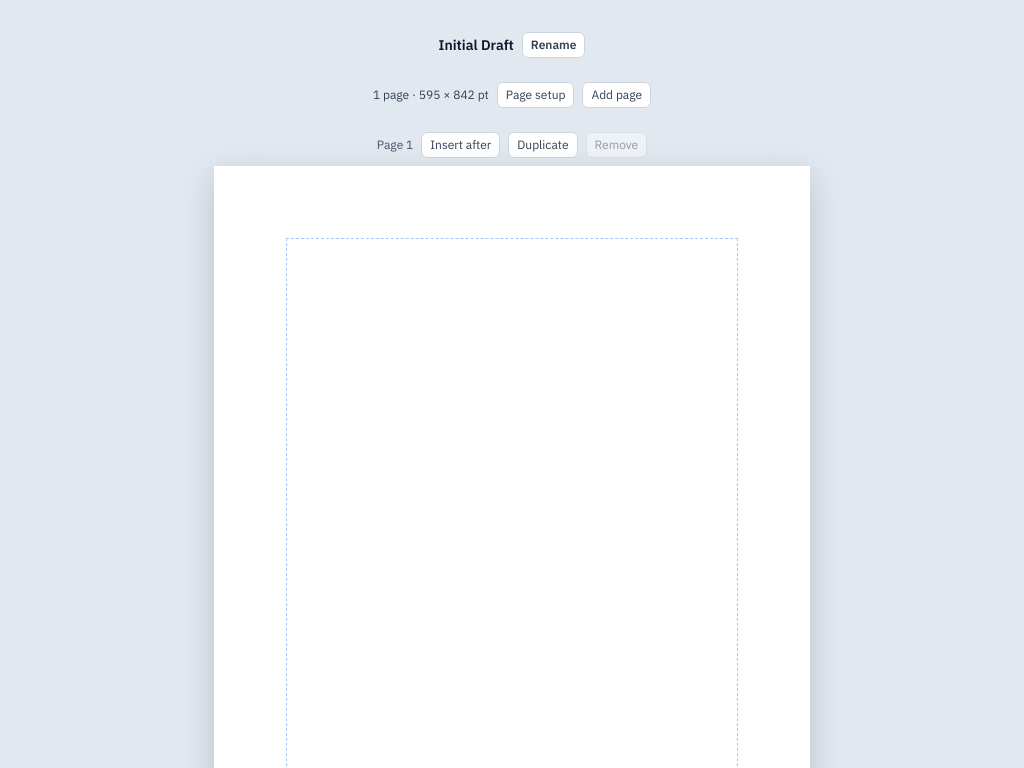
Test case: WriterBlankDocumentCanvas rename flow › shows current title and opens rename dialog
Expected: the text with test id "writer-blank-document-title" reads "Initial Draft", [438,36,514,54]
Click the button with test id "writer-blank-document-rename-button" at (554, 45), box [522,32,585,58]
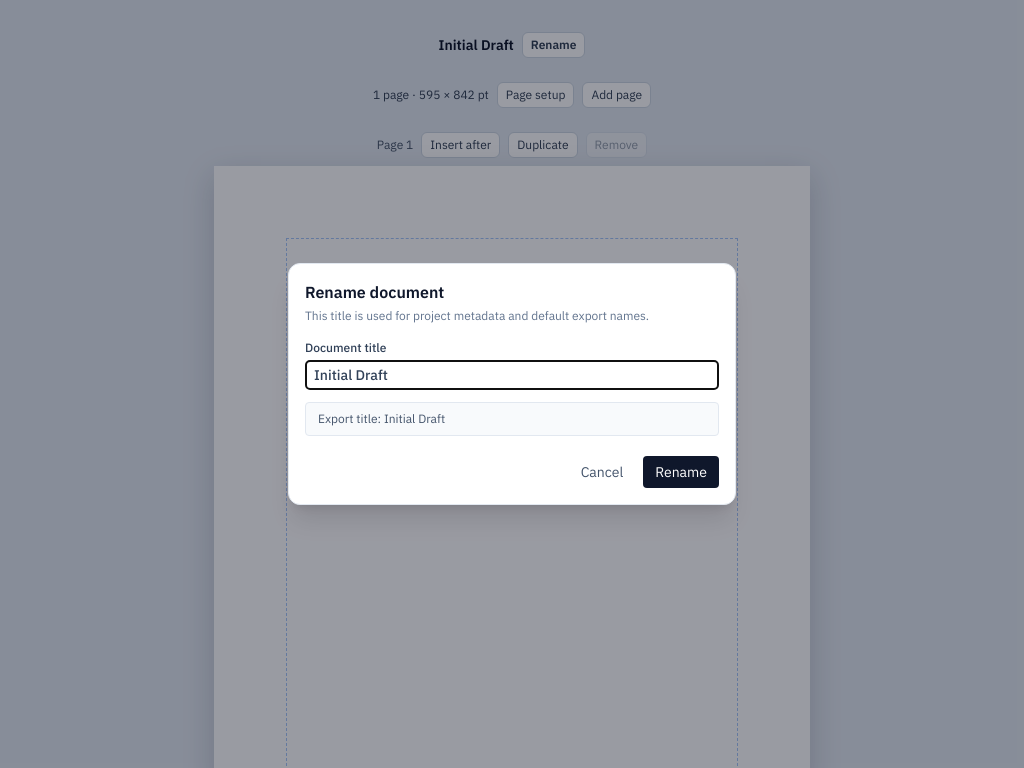
Expected: the dialog with test id "blank-document-rename-dialog" is shown
Expected: the field with test id "blank-document-rename-input" holds "Initial Draft", [305,360,719,390]
